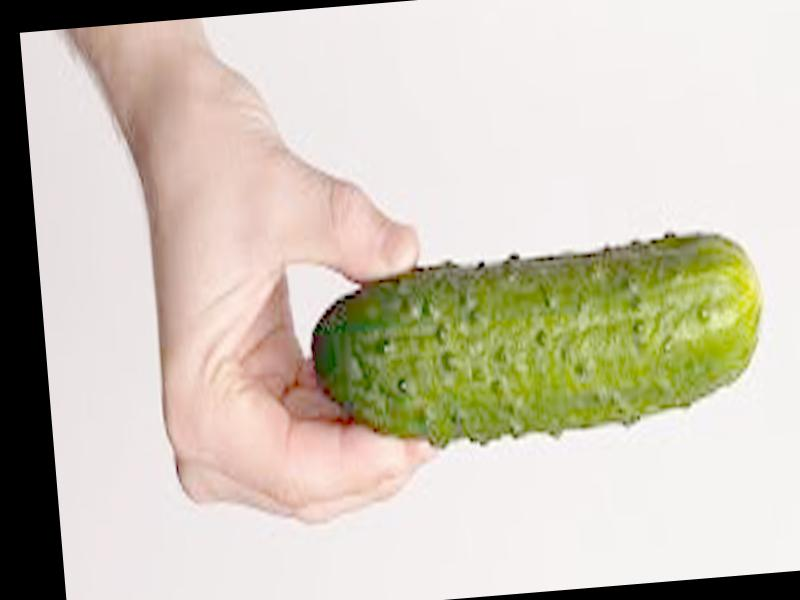Cucumber: (304, 242, 768, 454)
